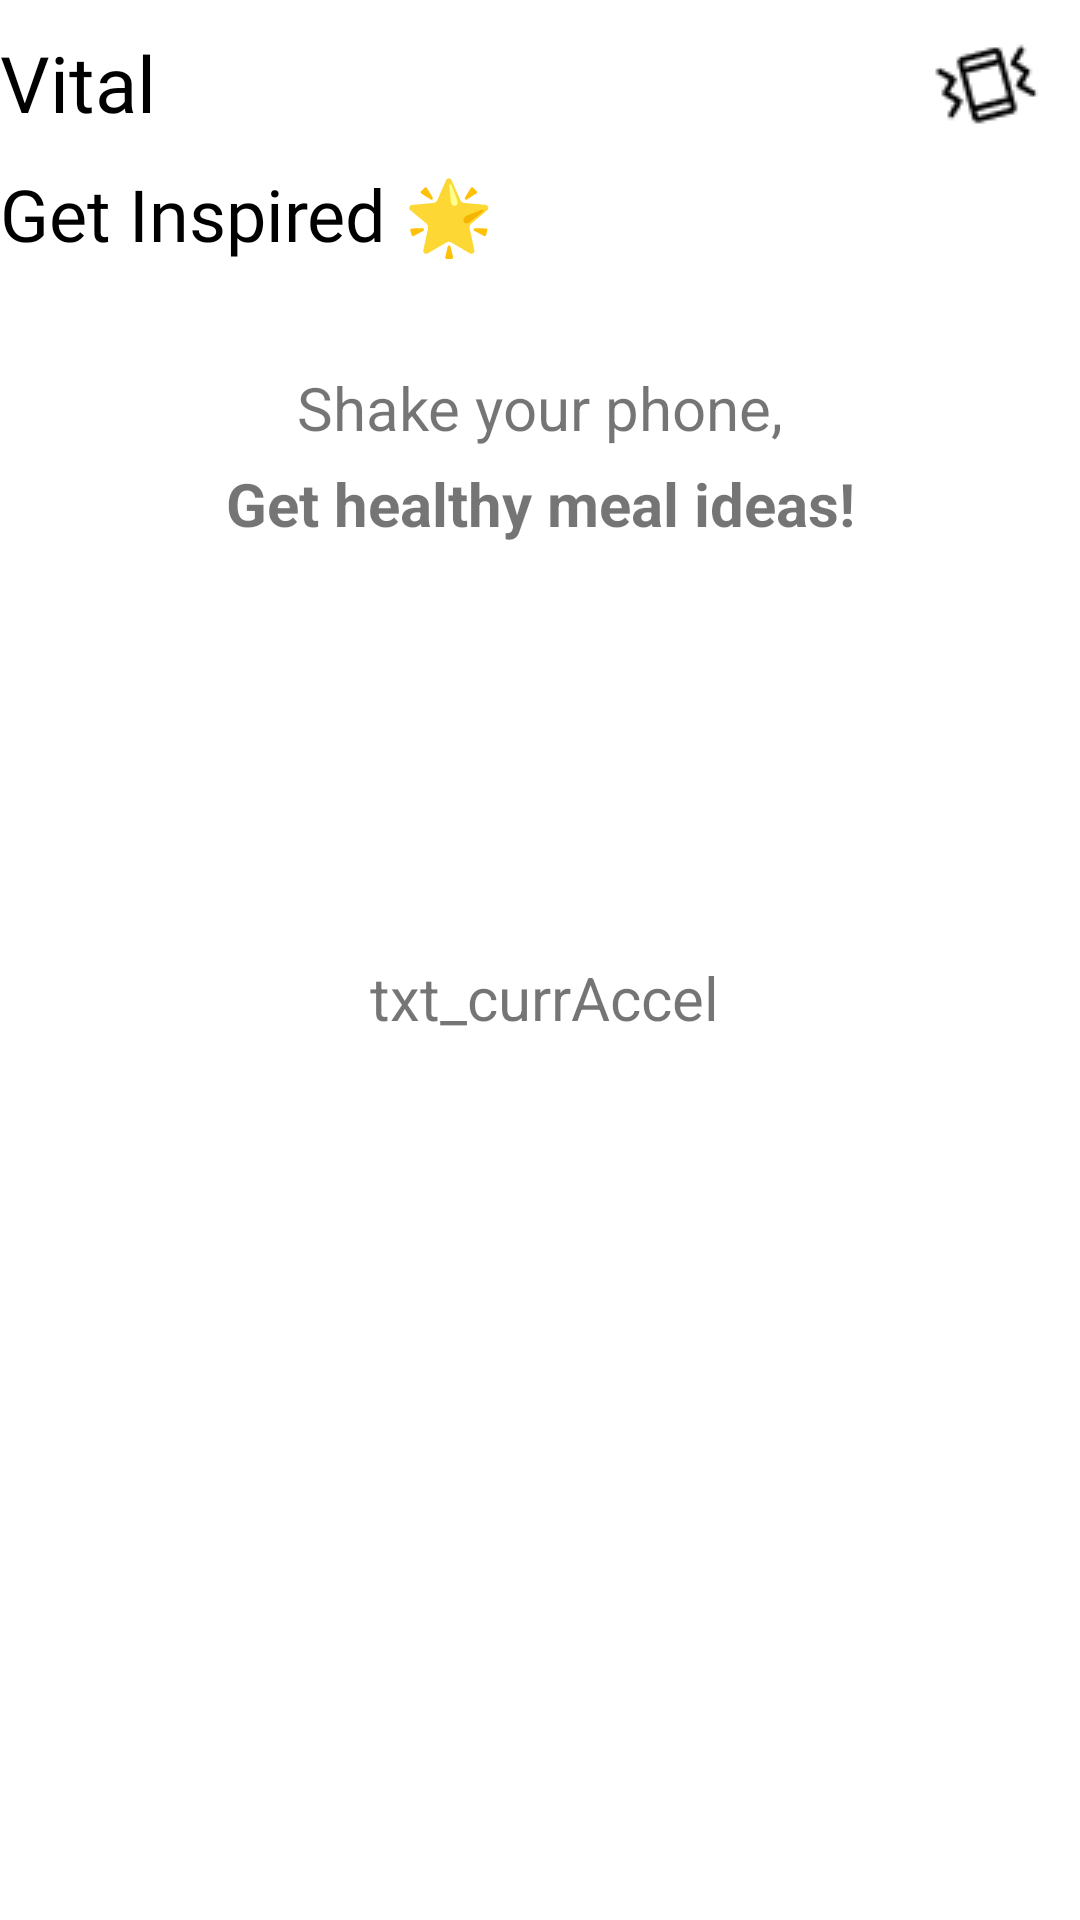

Where to tap for icons on this 1080×1920 app screen, as (x,y):
shacky: (986,84)
